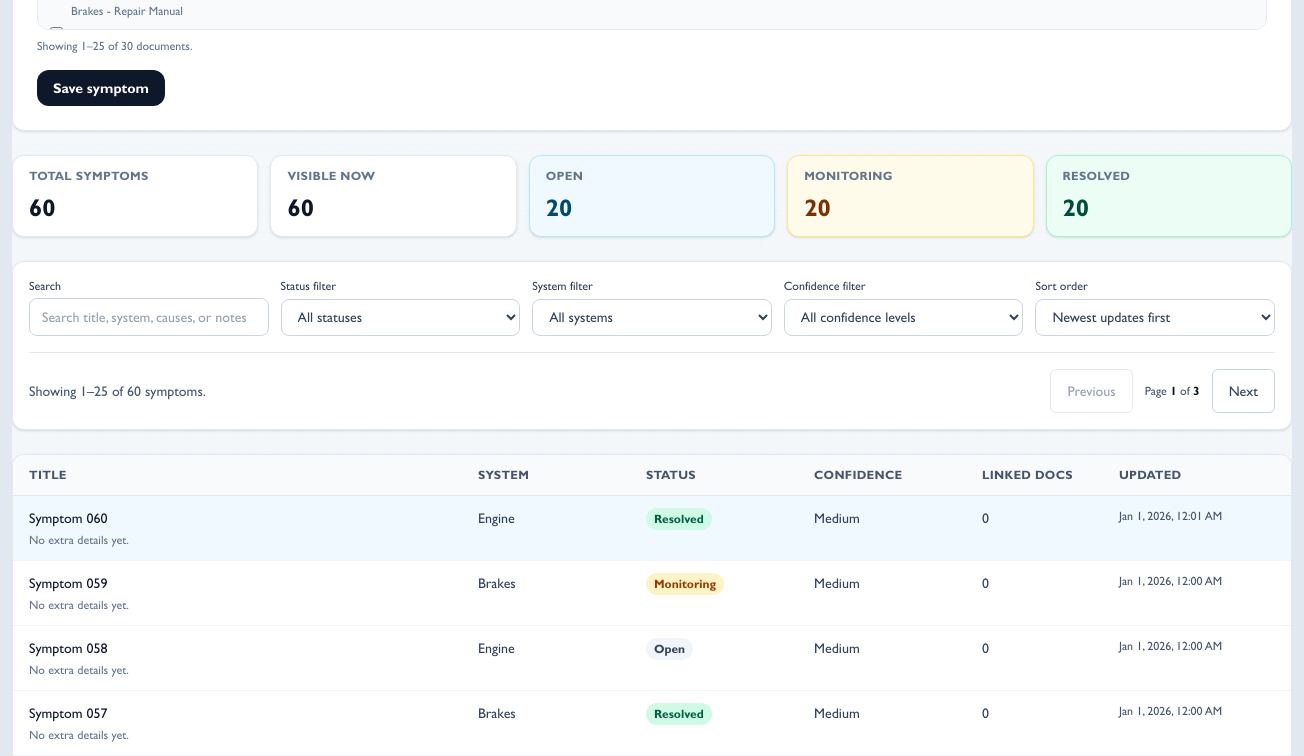
Scenario: Next and Previous walk the page boundaries the server reports
This screenshot has width=1304, height=756.
(page scrolled)
Click the button "Next": coordinates (1243, 391) top-left (1212, 369), bottom-right (1275, 413)
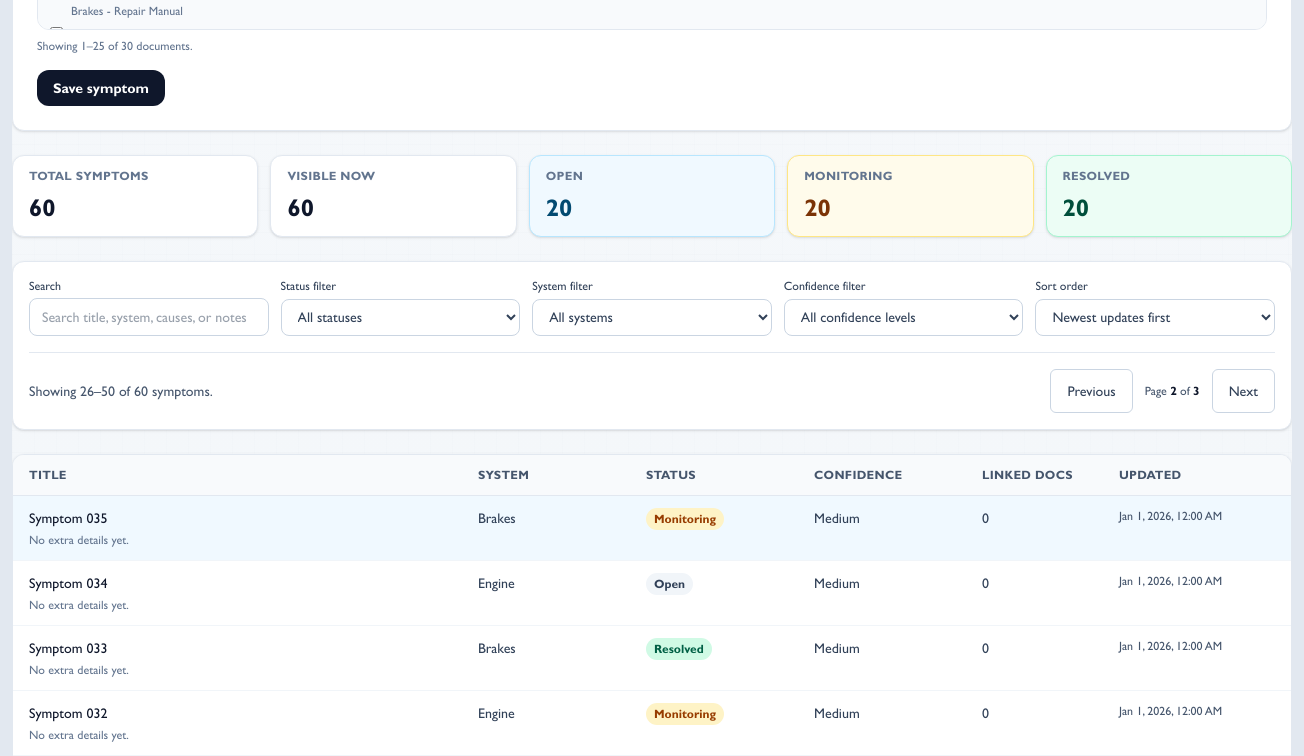
Now the text with test id "symptom-row-title" reads "Symptom 035", box top-left (29, 510), bottom-right (107, 526)
Now the text "Showing 26–50 of 60 symptoms." is shown, box top-left (29, 381), bottom-right (213, 401)
Click the button "Next": coordinates (1243, 391) top-left (1212, 369), bottom-right (1275, 413)
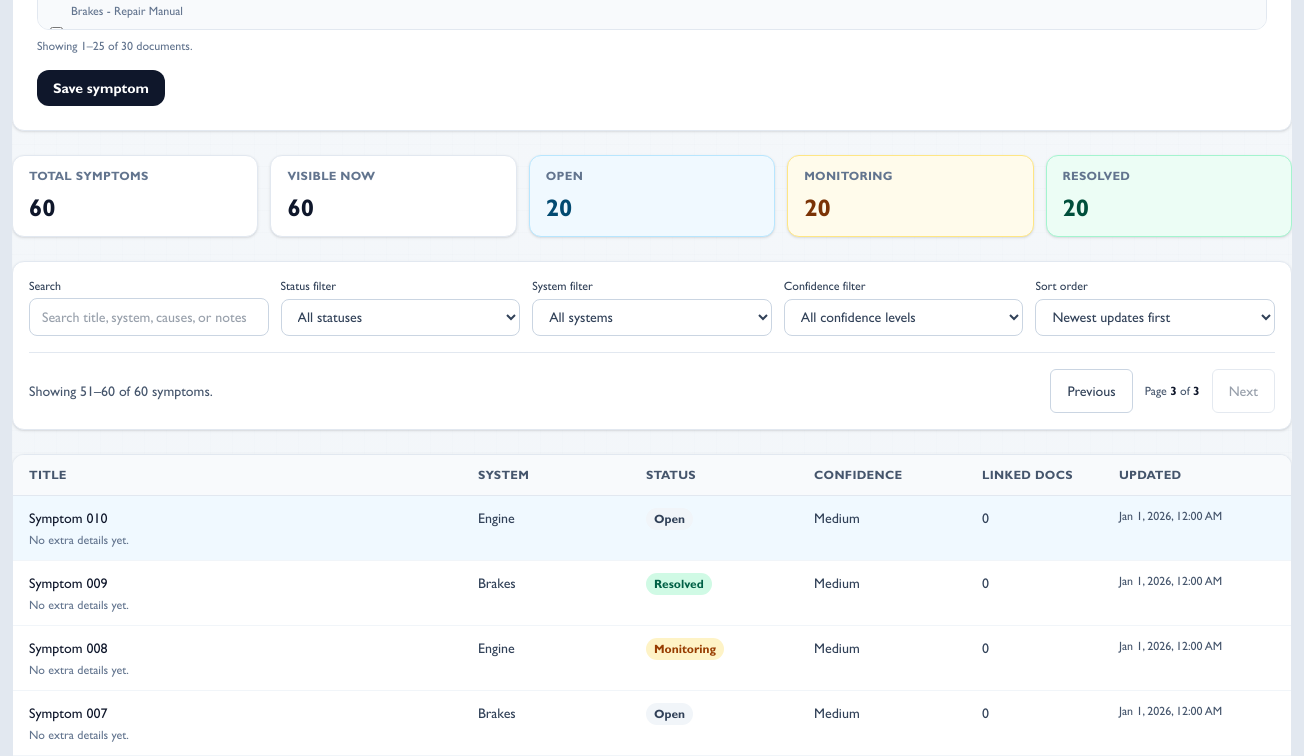
Now the text "Showing 51–60 of 60 symptoms." is shown, box top-left (29, 381), bottom-right (213, 401)
Now the button "Next" is disabled, box top-left (1212, 369), bottom-right (1275, 413)
Click the button "Previous": coordinates (1092, 391) top-left (1050, 369), bottom-right (1133, 413)
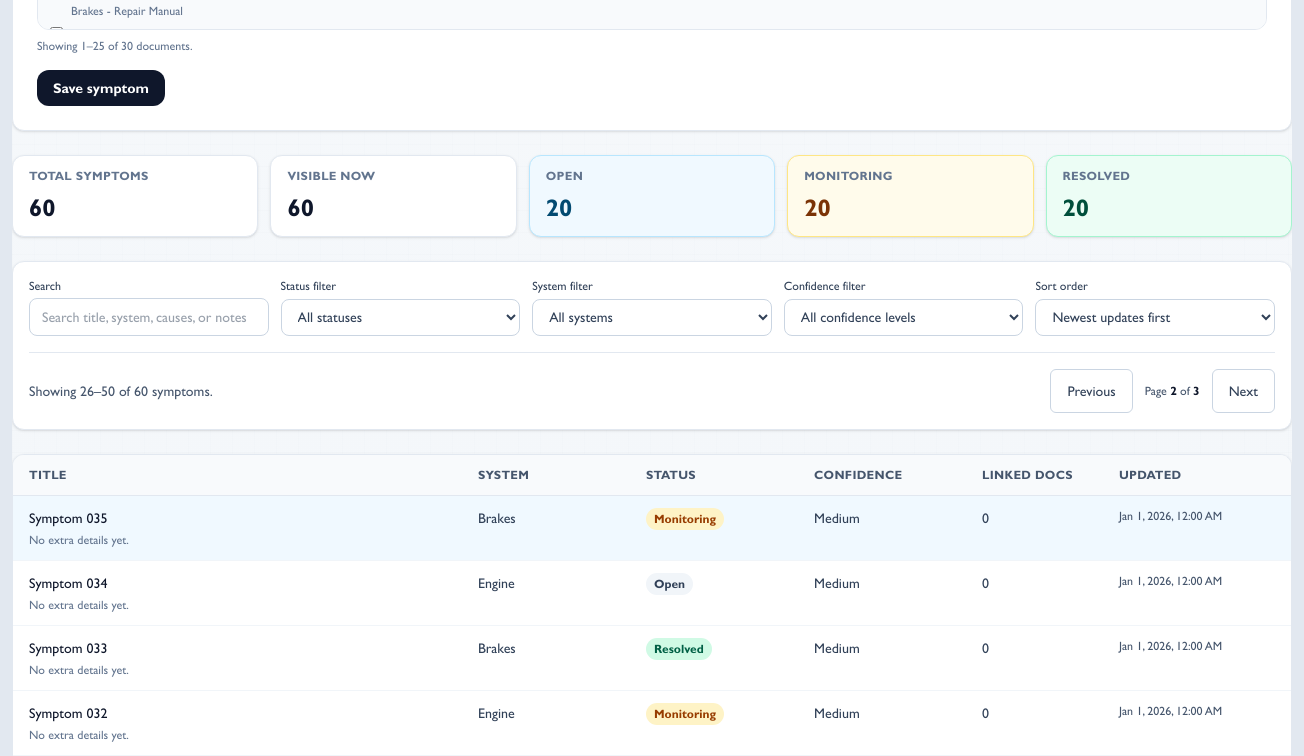
Now the text with test id "symptom-row-title" reads "Symptom 035", box top-left (29, 510), bottom-right (107, 526)
